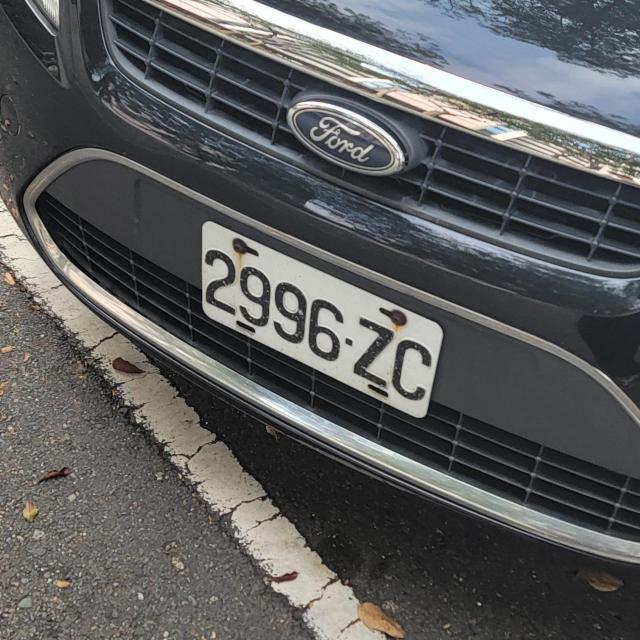W: (191, 220, 457, 418)
